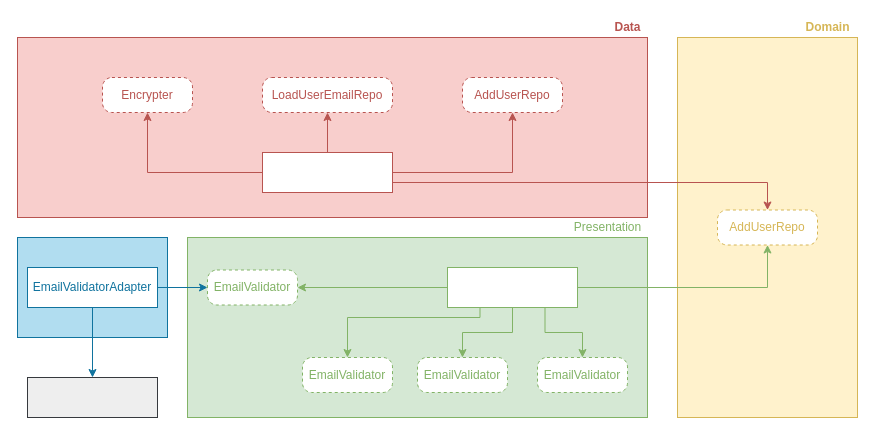
Some shapes in this 875 by 435 pixel diagram are drawn without their labels. The shapes that lost their labels are listed below. From the top down, each one's box as (x1, y1, x2, y2) in pixels, then its label:
(262, 152, 392, 192): DbAddAccount
(446, 266, 578, 308): SingUpController
(26, 376, 158, 418): Validator
